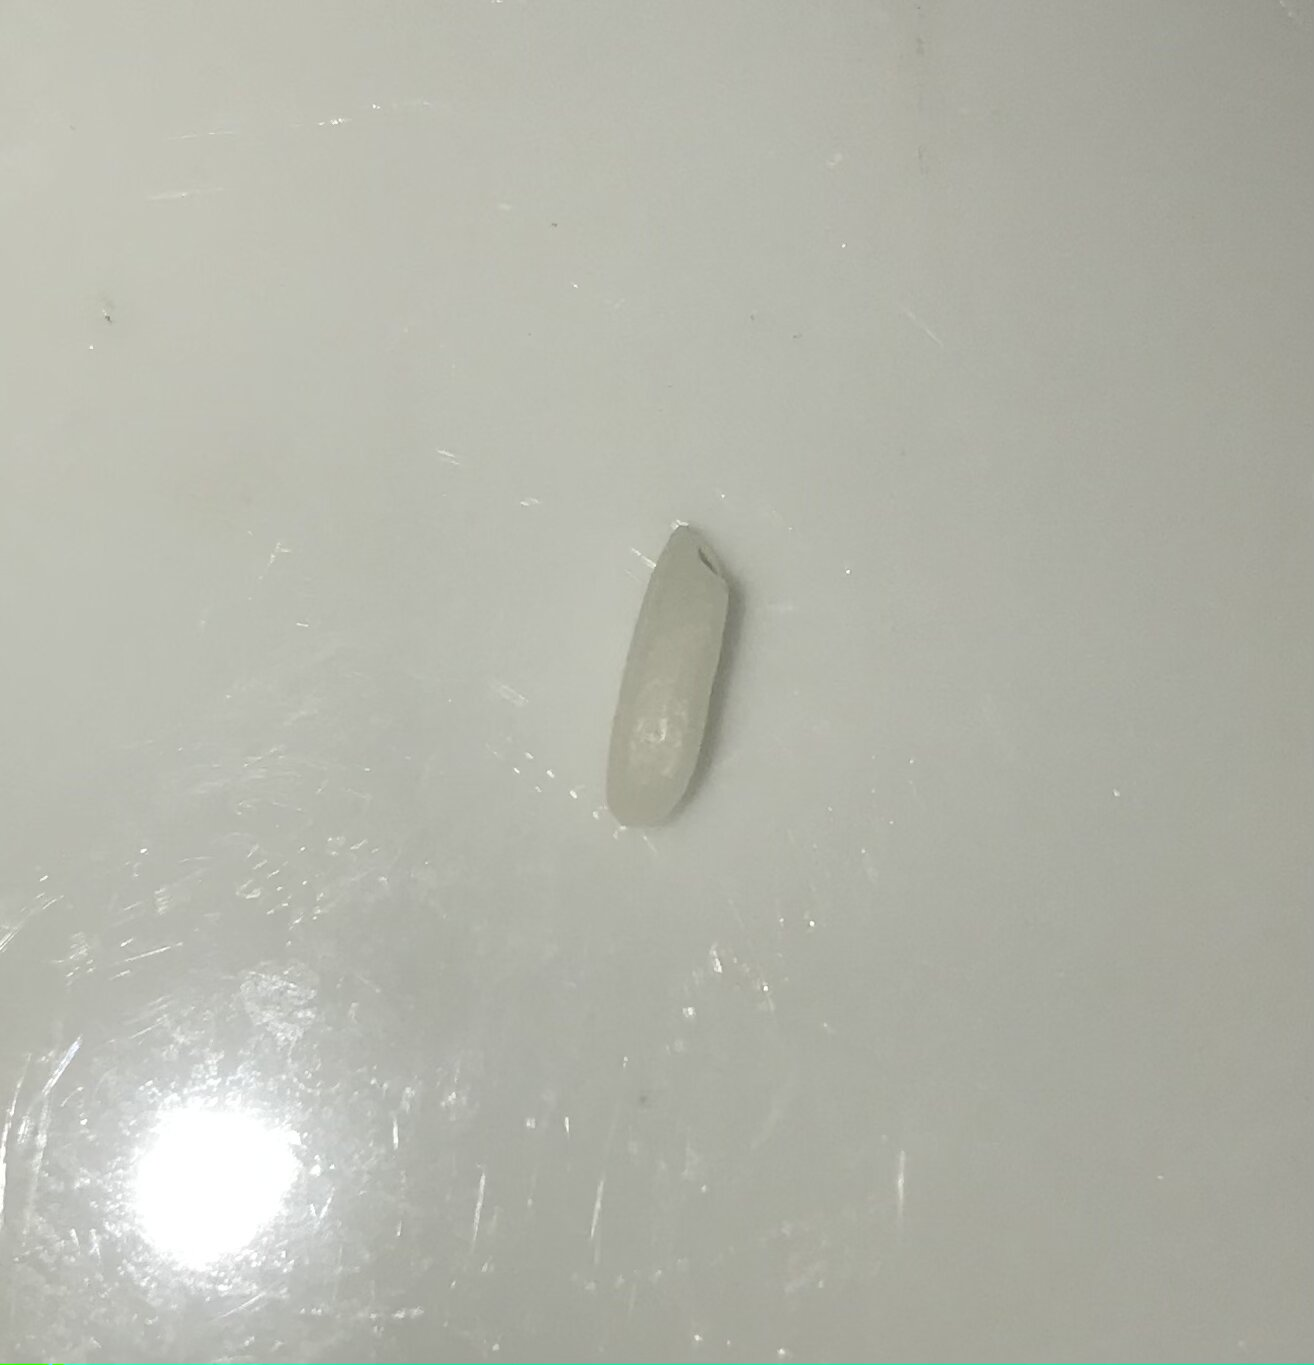Gao Lai Sua: (608, 520, 735, 832)
